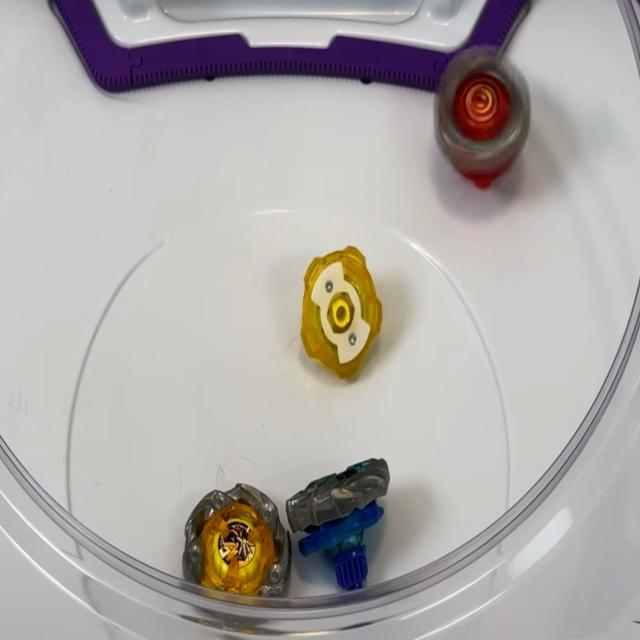Beyblade: (287, 457, 389, 591), (435, 46, 529, 188), (182, 484, 287, 599), (297, 245, 383, 382)
